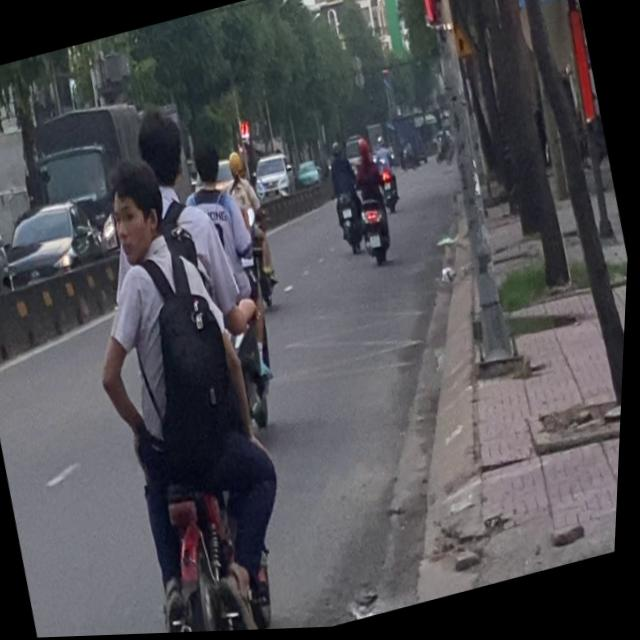licenseplate: (41, 80, 331, 638)
motorcyclist: (97, 150, 180, 270), (126, 100, 196, 200)
